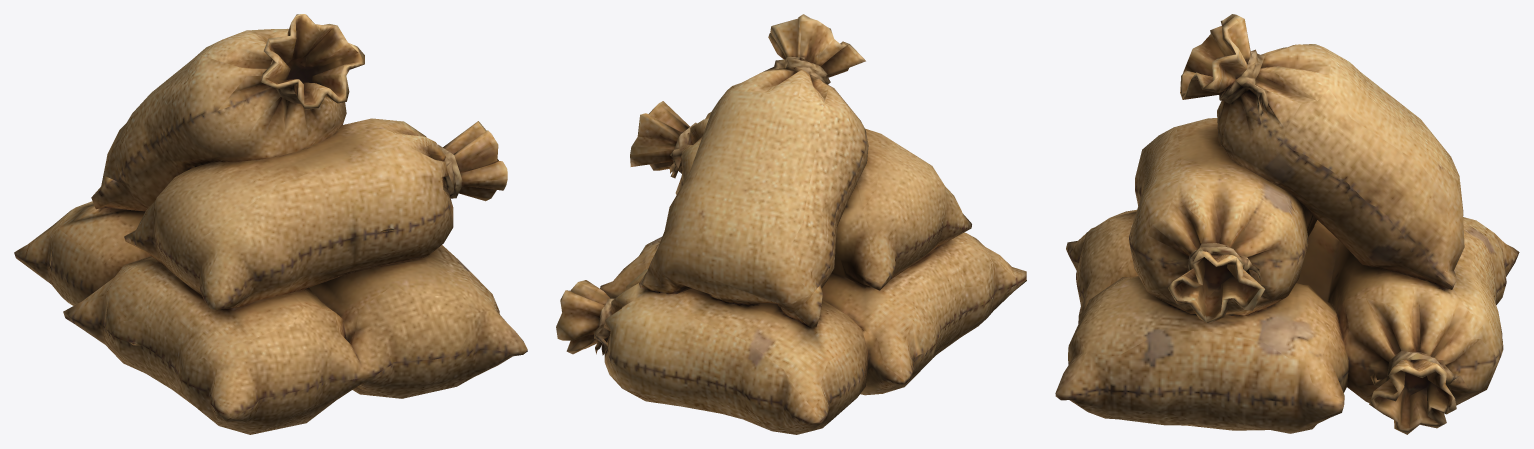
The model's file is GrainSacks.gltf.
The picture shows the model from 3 angles, left to right: view 1: azimuth 30°, elevation 25°; view 2: azimuth 150°, elevation 25°; view 3: azimuth 270°, elevation 25°; orthographic projection. The views are drawn at different scales.
Parts seen in each view (by area): view 1: lo; view 2: lo; view 3: lo.
Part boxes in pixels (x1,y1,x2,y2): lo: (14, 14, 527, 434); lo: (556, 14, 1026, 434); lo: (1055, 14, 1519, 434).
Bounding box in the file's own units: 1.1 × 1.06 × 1.23.
Materials: 1 (1 with a texture image).
